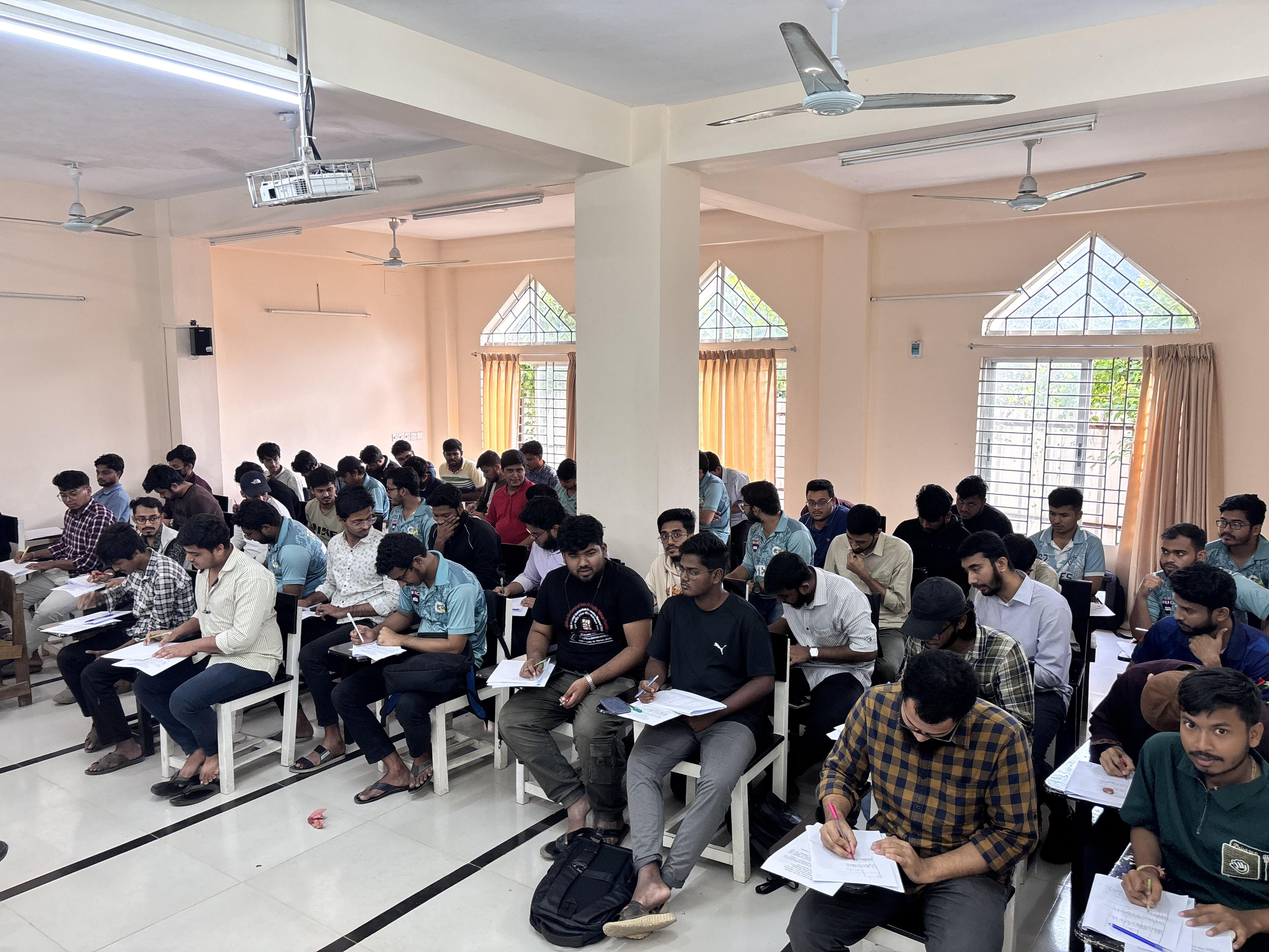copying: (36, 468, 111, 634), (322, 485, 383, 582), (236, 466, 279, 507)
no_cheating: (1087, 655, 1264, 952), (812, 646, 1006, 905), (349, 522, 476, 706), (527, 510, 632, 721), (645, 535, 751, 738), (164, 516, 248, 725), (83, 525, 177, 690), (766, 548, 863, 679), (891, 574, 974, 660), (837, 508, 904, 599), (1033, 481, 1092, 574), (956, 534, 1020, 611), (1212, 488, 1269, 573), (238, 494, 294, 562), (907, 486, 954, 559), (795, 475, 843, 546), (950, 467, 995, 540), (644, 505, 694, 569), (1151, 522, 1205, 573), (517, 495, 558, 561), (140, 464, 193, 511), (87, 447, 126, 506), (471, 445, 506, 504), (498, 448, 529, 513), (128, 492, 166, 544), (163, 442, 202, 485), (356, 439, 386, 482), (521, 437, 547, 482), (556, 455, 581, 501), (337, 455, 368, 492)
side_talking: (1151, 565, 1240, 660), (735, 477, 795, 562), (425, 481, 475, 549), (378, 463, 423, 531), (307, 467, 339, 516), (255, 438, 290, 480), (438, 432, 470, 474)
